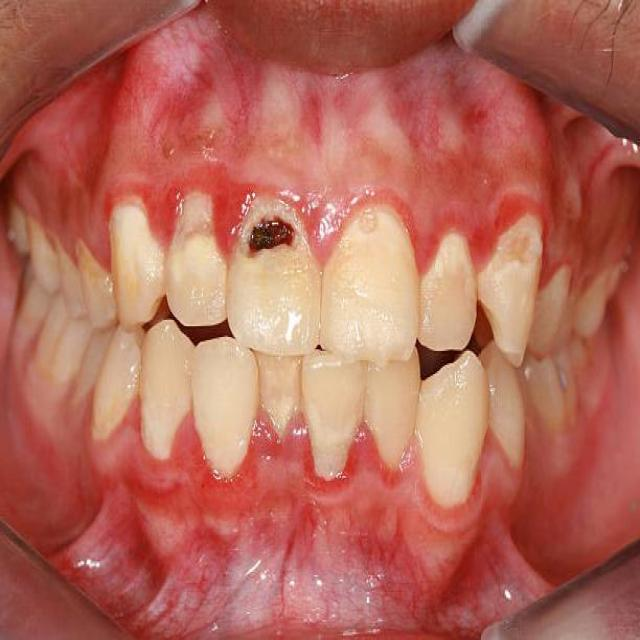caries: (246, 213, 300, 266)
